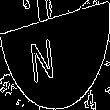N_N: (41, 26, 69, 84)
